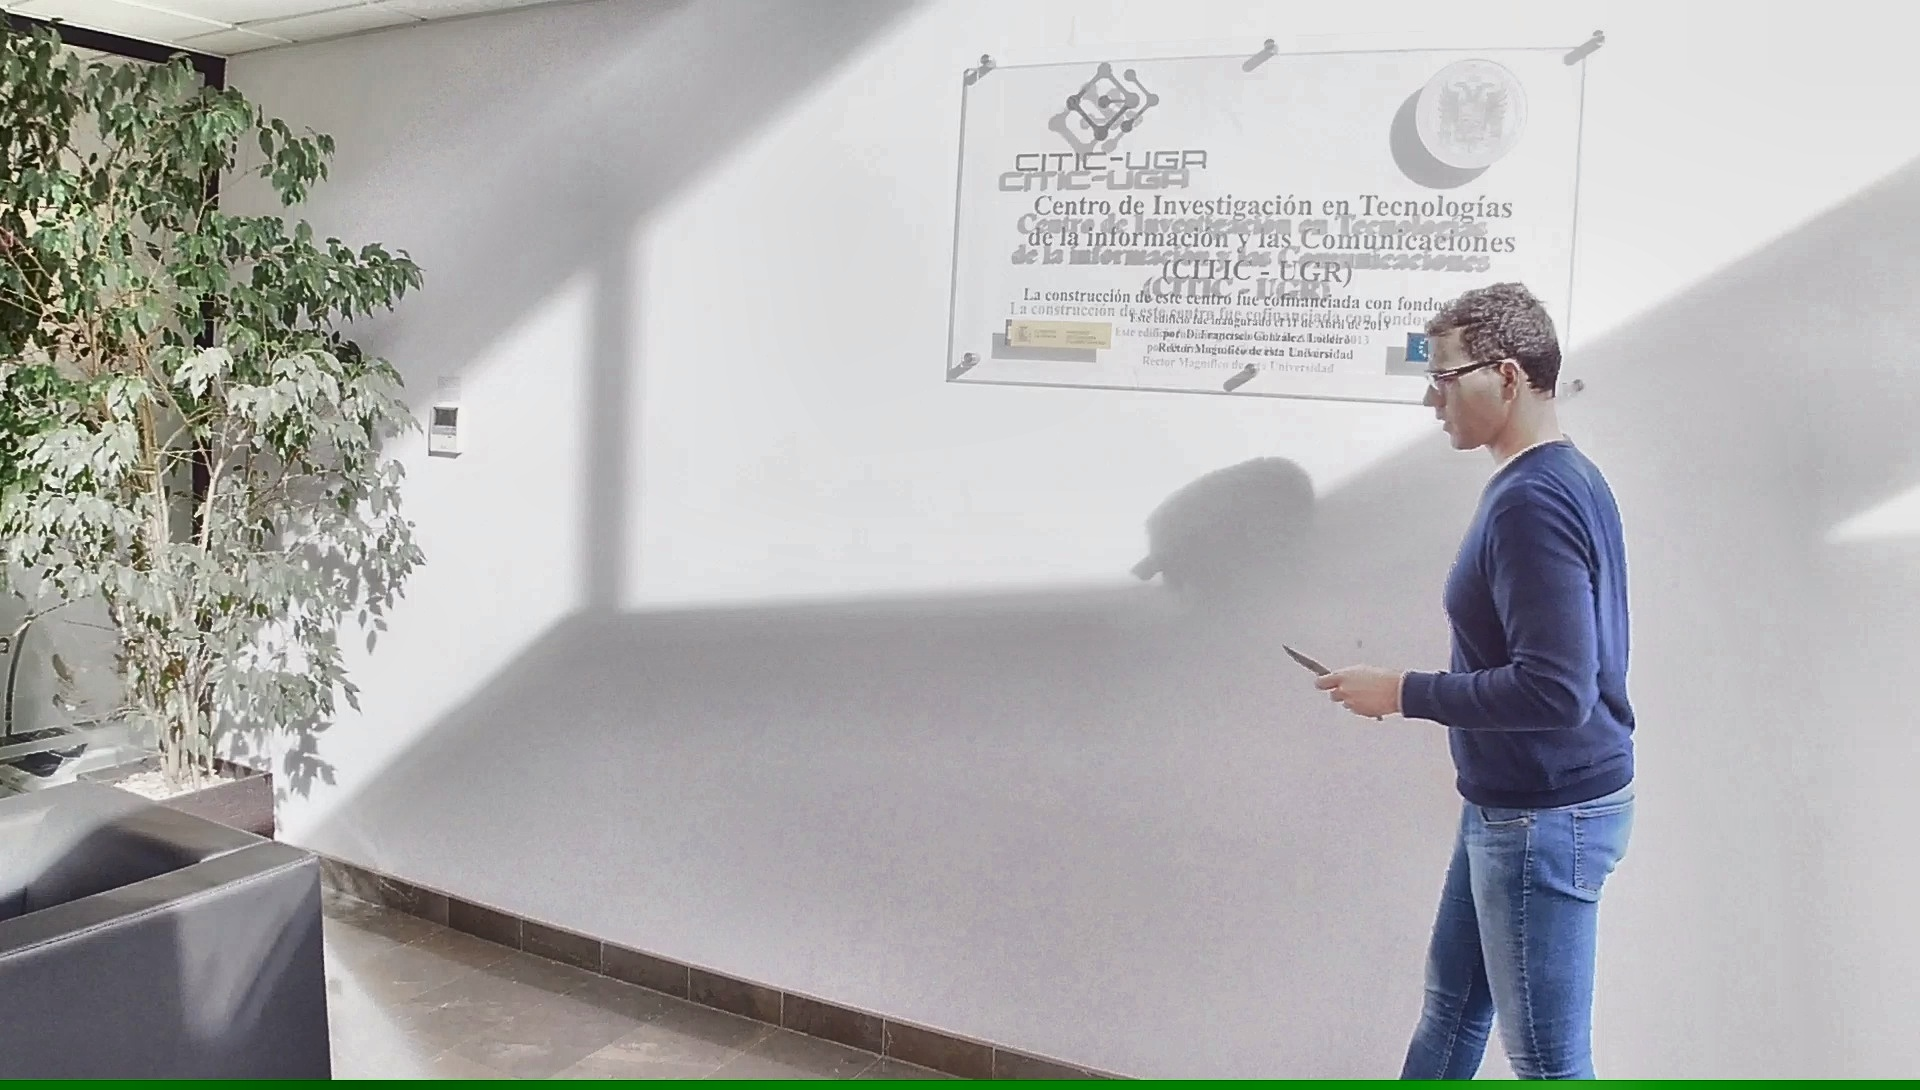knife: (1276, 637, 1386, 725)
